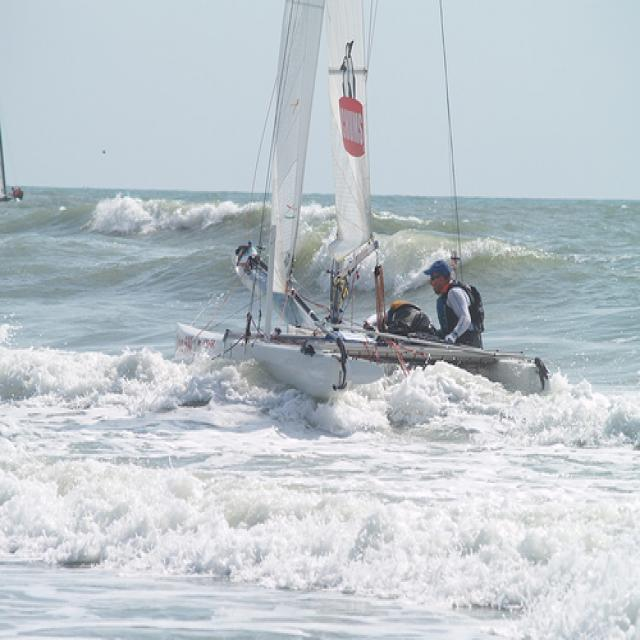Ship: (197, 4, 552, 409)
